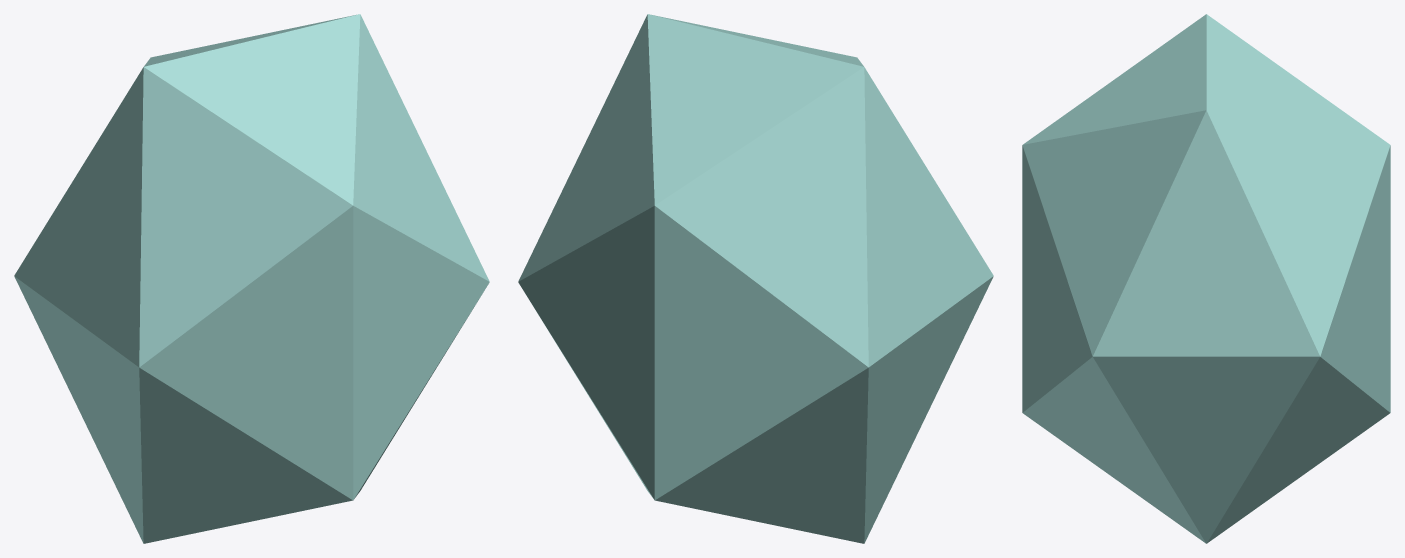
3 renders of one model, left to right at view 1: azimuth 30°, elevation 25°; view 2: azimuth 150°, elevation 25°; view 3: azimuth 270°, elevation 25°, orthographic. The views are drawn at different scales.
Parts seen in each view (by area): view 1: escultura-muestra; view 2: escultura-muestra; view 3: escultura-muestra.
Boxes of the visible parts, x1,y1,x2,y2 form: escultura-muestra: [14, 14, 489, 543]; escultura-muestra: [518, 14, 993, 543]; escultura-muestra: [1022, 14, 1390, 543].
Bounding box in the file's own units: 0.6464 × 0.8404 × 0.6464.
